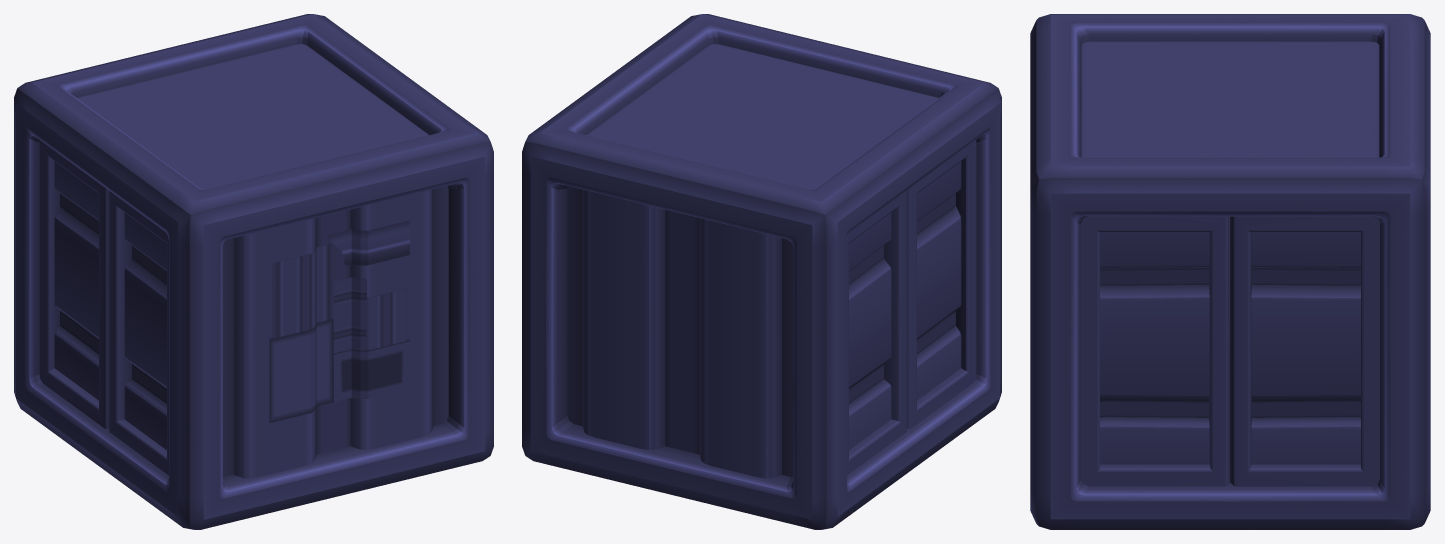
The model's file is Box_1_Havy.fbx.
3 views of the same model, side by side, from view 1: azimuth 30°, elevation 25°; view 2: azimuth 150°, elevation 25°; view 3: azimuth 270°, elevation 25° (orthographic). The views are drawn at different scales.
Visible parts, largest first — view 1: mdl_Heavy_Box_1x1_01_002_3; view 2: mdl_Heavy_Box_1x1_01_002_3; view 3: mdl_Heavy_Box_1x1_01_002_3.
Boxes of the visible parts, x1,y1,x2,y2 form: mdl_Heavy_Box_1x1_01_002_3: [14, 14, 493, 529]; mdl_Heavy_Box_1x1_01_002_3: [522, 14, 1001, 529]; mdl_Heavy_Box_1x1_01_002_3: [1030, 14, 1430, 529].
Size of the model in its own units: 100 by 100 by 100.
1 material, 1 textured.
